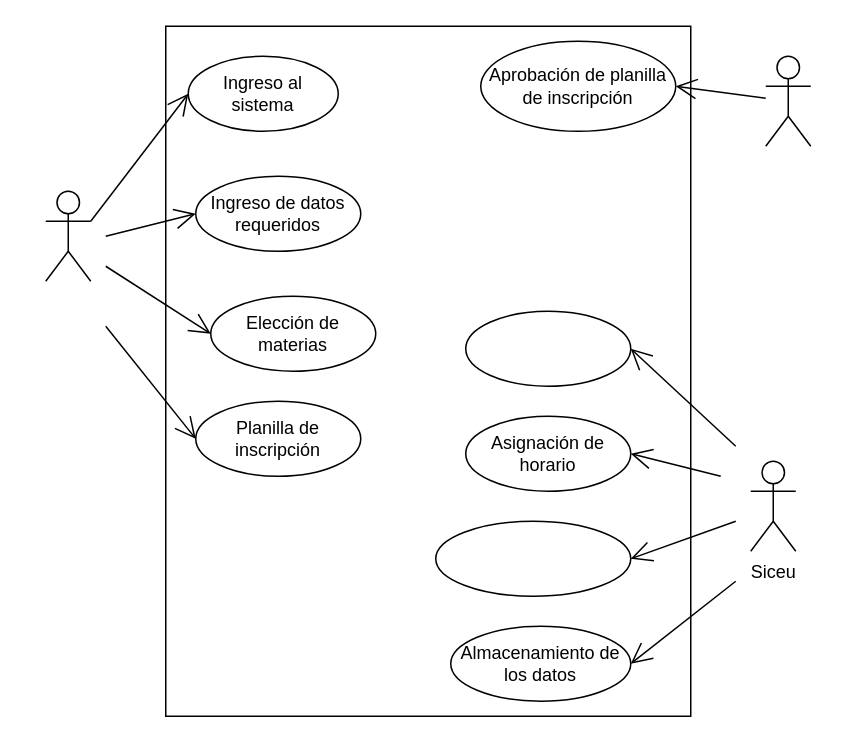
Image size: 855x743. Some labels were removed from this diagram. Here are the shapes that lost their labels. From the top down, the centre of each, then its label:
At pixel 787 100: "Secretaria".
At pixel 67 235: "Estudiante".
At pixel 547 348: "Registro de datos".
At pixel 532 558: "Generación de planilla de inscripción".
